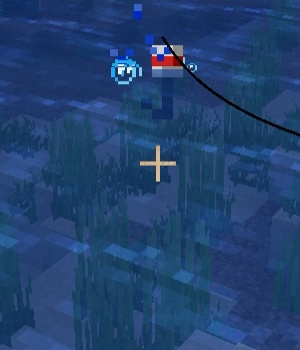up: (140, 37, 191, 124)
